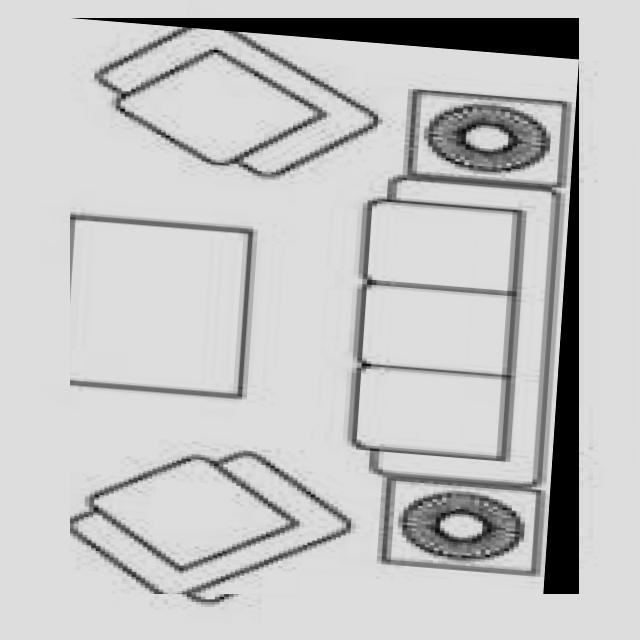sofa: (70, 18, 579, 594)
